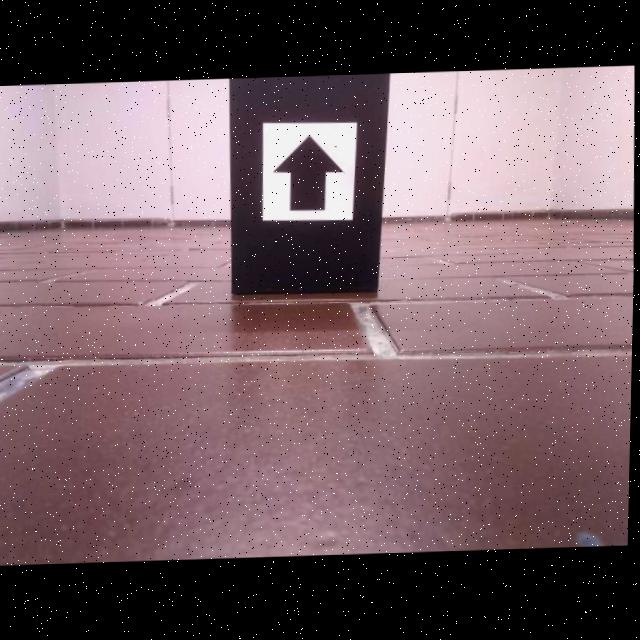UP: (274, 135, 344, 213)
